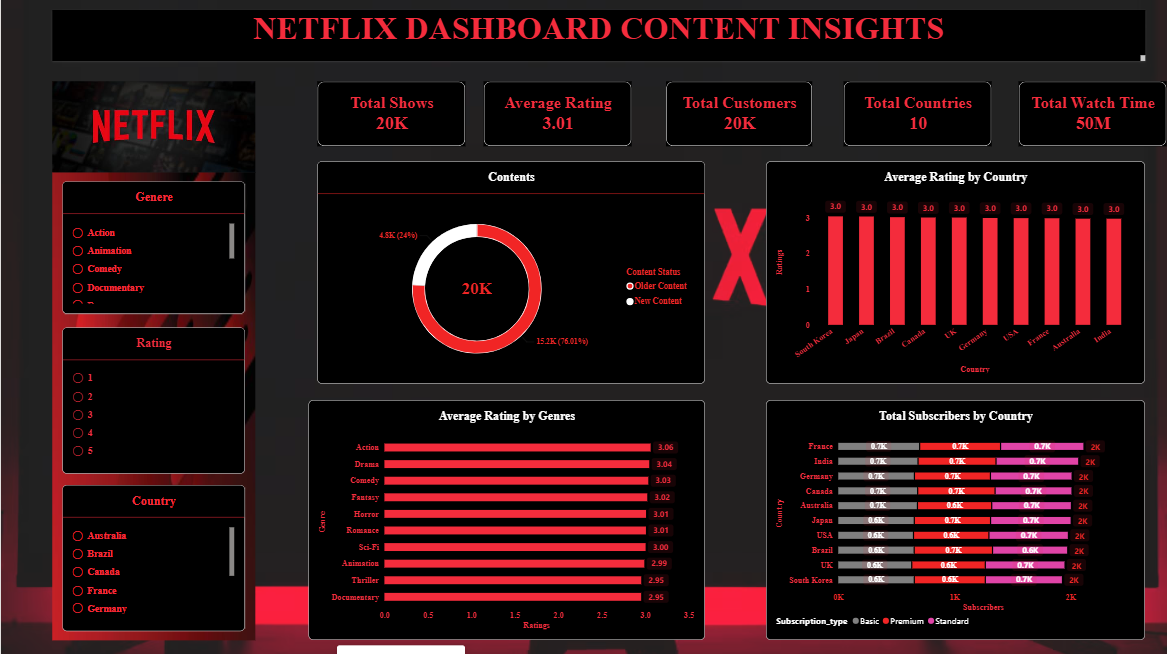

This screenshot's page, from the dashboard's own definition file:
{"tool":"powerbi","page":{"name":"Content Insights","canvas":[1920,1080],"ordinal":1},"visuals":[{"type":"cardVisual","fields":{"Data":["netflix_customer_ratings.Average Rating"]},"box":[794,134,244.9,107],"z":0},{"type":"cardVisual","fields":{"Data":["netflix_customer_ratings.Total Countries"]},"box":[1388,134,244.9,107],"z":1000},{"type":"cardVisual","fields":{"Data":["netflix_customer_ratings.Total Customers"]},"box":[1096,134,241.4,107.1],"z":2000},{"type":"cardVisual","fields":{"Data":["netflix_customer_ratings.Total Watch Time"]},"box":[1676,134,244.9,107],"z":3000},{"type":"image","box":[84,134,334,150],"z":4000},{"type":"image","box":[84,284,334,770],"z":5000},{"type":"cardVisual","fields":{"Data":["netflix_dataset.Total Shows"]},"box":[520,134,244.9,107],"z":6000},{"type":"textbox","title":"NETFLIX DASHBOARD CONTENT INSIGHTS","box":[84,16,1800,84],"z":7000},{"type":"donutChart","title":"Contents","fields":{"Category":["netflix_dataset.Content Status"],"Y":["CountNonNull(netflix_customer_ratings.show_id)"]},"box":[520.8,265.5,638.1,366.4],"z":8000},{"type":"columnChart","title":"Average Rating by Country","fields":{"Y":["netflix_customer_ratings.Average Rating"],"Category":["netflix_dataset.country"]},"box":[1259.7,265.5,623.7,366.4],"z":9000},{"type":"clusteredBarChart","title":"Average Rating by Genres","fields":{"Category":["netflix_dataset.genre"],"Y":["netflix_customer_ratings.Average Rating"]},"box":[506.3,658.7,652.5,395.2],"z":10000},{"type":"barChart","title":"Total Subscribers by Country","fields":{"Category":["netflix_customer_ratings.country"],"Series":["netflix_customer_ratings.subscription_type"],"Y":["netflix_customer_ratings.Total Subscribers"]},"box":[1259.7,658.7,623.7,395.2],"z":11000},{"type":"listSlicer","title":"Genere","fields":{"Values":["netflix_dataset.genre"]},"box":[100.9,298.5,300.5,218.2],"z":12000},{"type":"listSlicer","title":"Rating","fields":{"Values":["netflix_customer_ratings.rating"]},"box":[100.9,539.3,300.5,240.8],"z":13000},{"type":"listSlicer","title":"Country","fields":{"Values":["netflix_customer_ratings.country"]},"box":[100.9,798.6,300.5,240.8],"z":14000}]}

Visuals, with their boxes in screenshot pixels (x1, y1, x2, y2), scaled from the page's 1920x1080 canvas onto the 1167x654 screenshot:
cardVisual - netflix_customer_ratings.Average Rating: [483,81,631,146]
cardVisual - netflix_customer_ratings.Total Countries: [844,81,992,146]
cardVisual - netflix_customer_ratings.Total Customers: [666,81,813,146]
cardVisual - netflix_customer_ratings.Total Watch Time: [1019,81,1166,146]
image: [51,81,254,172]
image: [51,172,254,638]
cardVisual - netflix_dataset.Total Shows: [316,81,465,146]
"NETFLIX DASHBOARD CONTENT INSIGHTS" textbox: [51,10,1145,61]
"Contents" donutChart: [317,161,704,383]
"Average Rating by Country" columnChart: [766,161,1145,383]
"Average Rating by Genres" clusteredBarChart: [308,399,704,638]
"Total Subscribers by Country" barChart: [766,399,1145,638]
"Genere" listSlicer: [61,181,244,313]
"Rating" listSlicer: [61,327,244,472]
"Country" listSlicer: [61,484,244,629]
